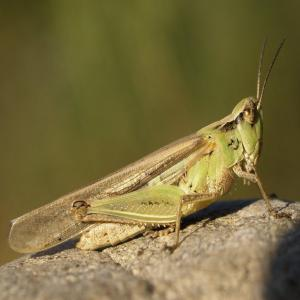locust: (10, 76, 281, 260)
